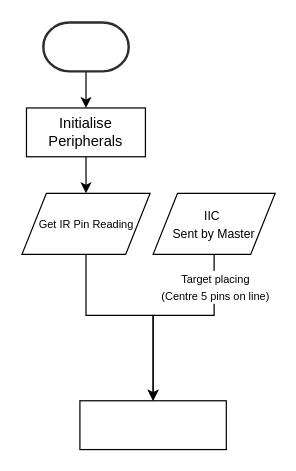
The diagram is 296 pixels wide and 471 high, and some of its shapes have lost their labels. The centre of each missing label's shape, as x and y in pixels:
"PD controller for line following" goes at (152,425).
"Start" goes at (85,46).
